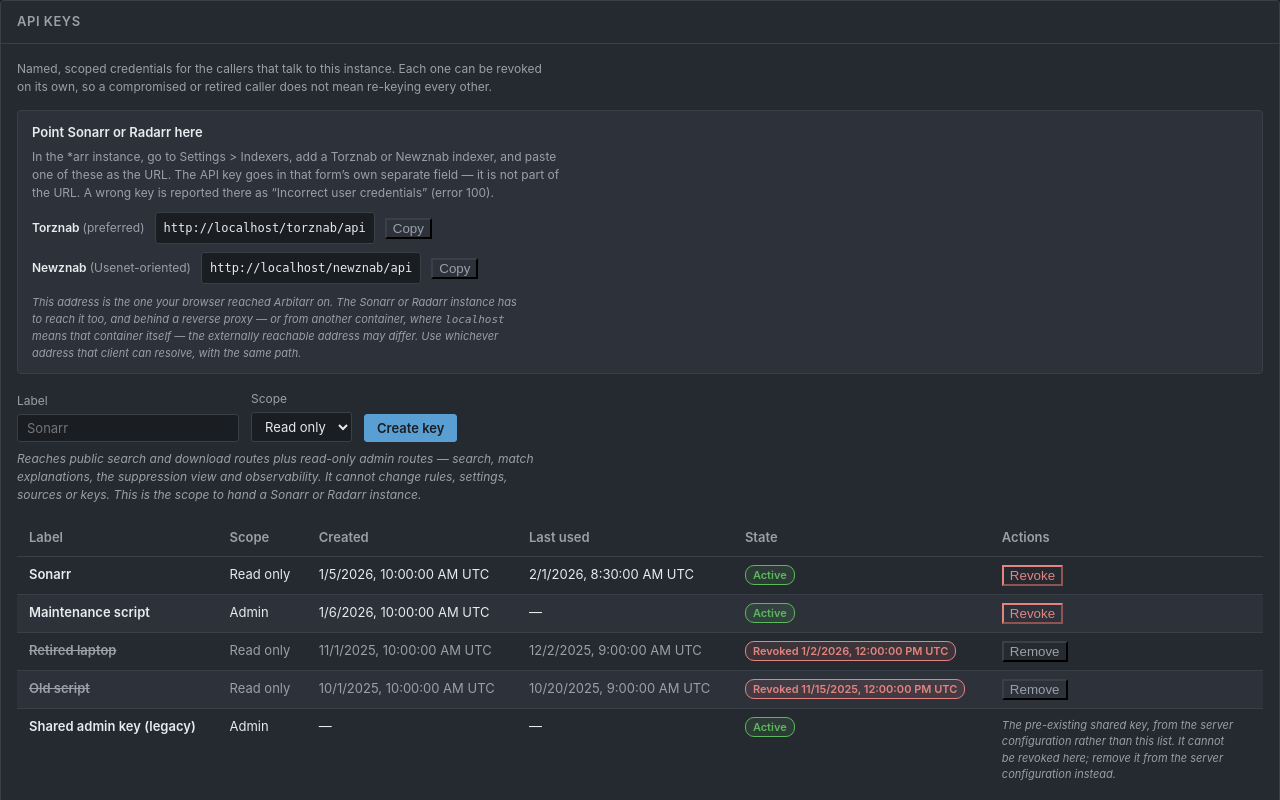
Scenario: ApiKeys › explains what each scope reaches, and changes the explanation with the choice
This screenshot has width=1280, height=800.
Expected: the text "It cannot change rules, settings, sources or keys" is shown, left=17, top=451, right=534, bottom=502
Select "Admin" in the dropdown named "New key scope" at (302, 427), box left=251, top=412, right=352, bottom=442
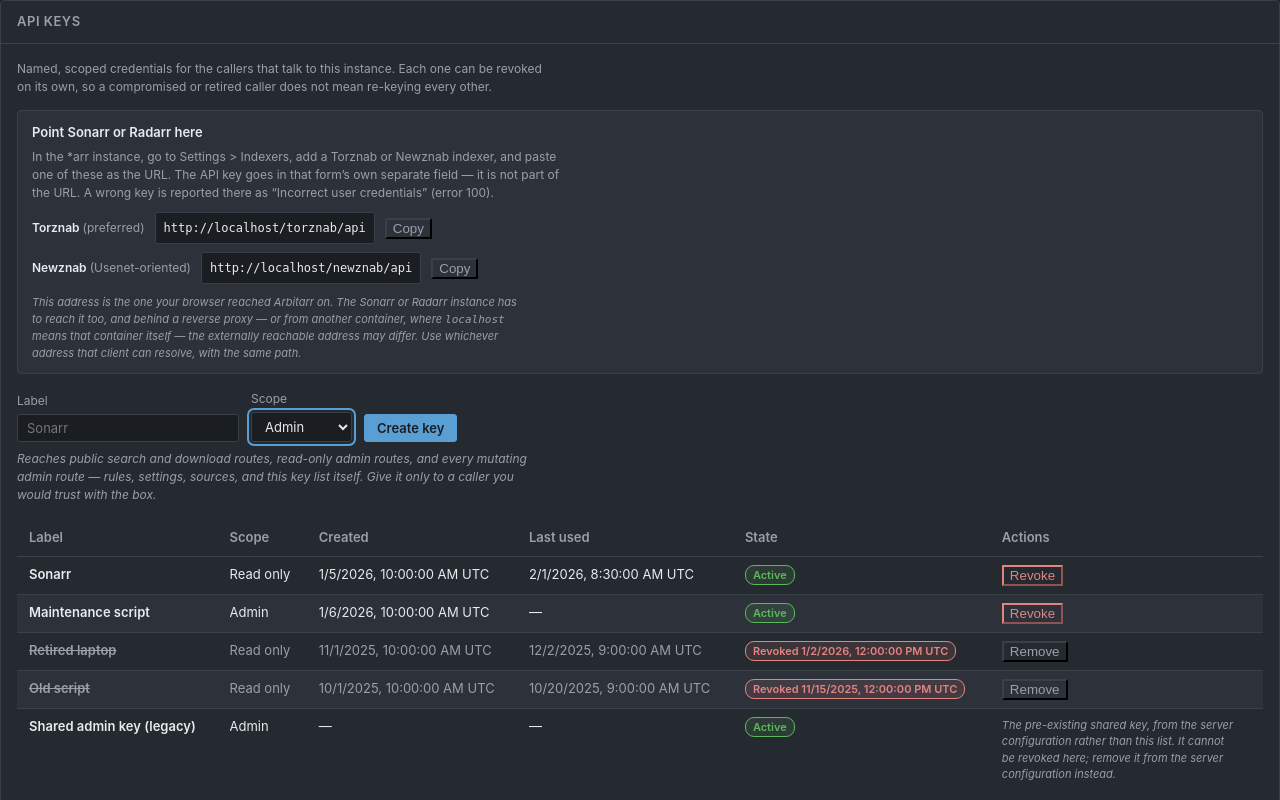
Now the text "every mutating admin route" is shown, box left=17, top=451, right=527, bottom=502
